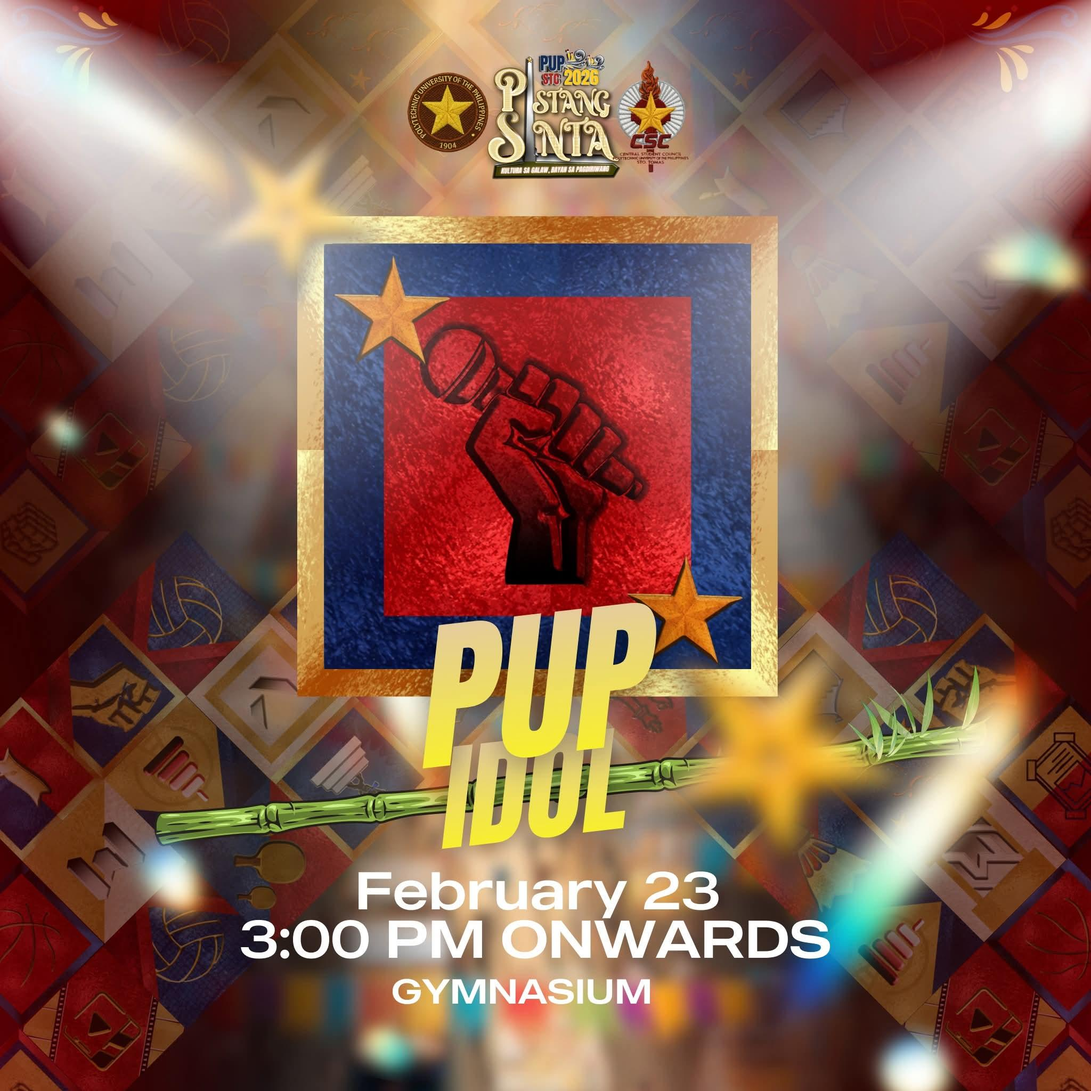embellishment: (296, 214, 780, 698), (219, 135, 350, 274)
logo: (484, 41, 622, 184), (612, 60, 693, 180), (403, 66, 492, 157)
text: (228, 860, 845, 1015), (407, 592, 666, 859)
